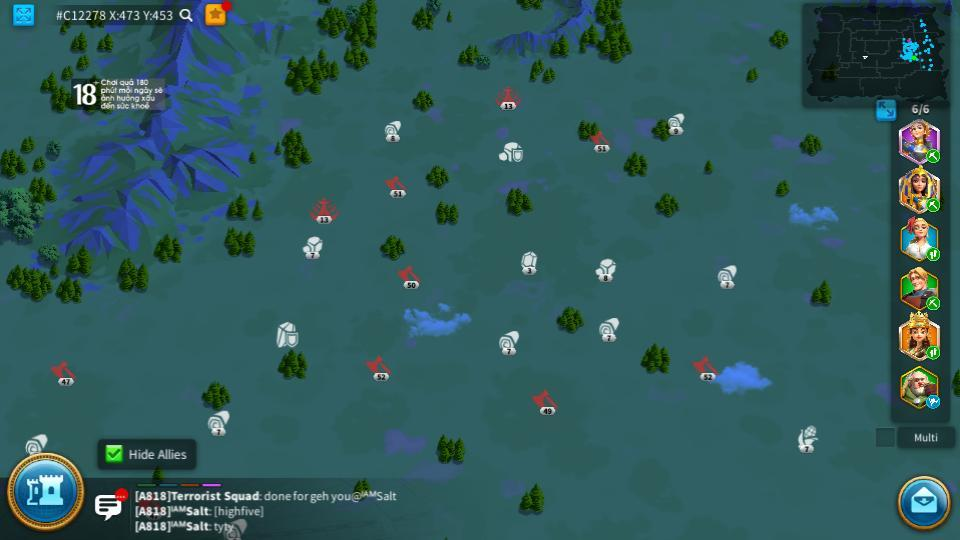gem-z-out: (520, 251, 538, 273)
march_idle: (925, 396, 942, 410)
march_marching: (925, 197, 941, 212), (925, 345, 941, 359), (925, 150, 942, 162), (925, 248, 941, 260), (925, 297, 942, 308)
